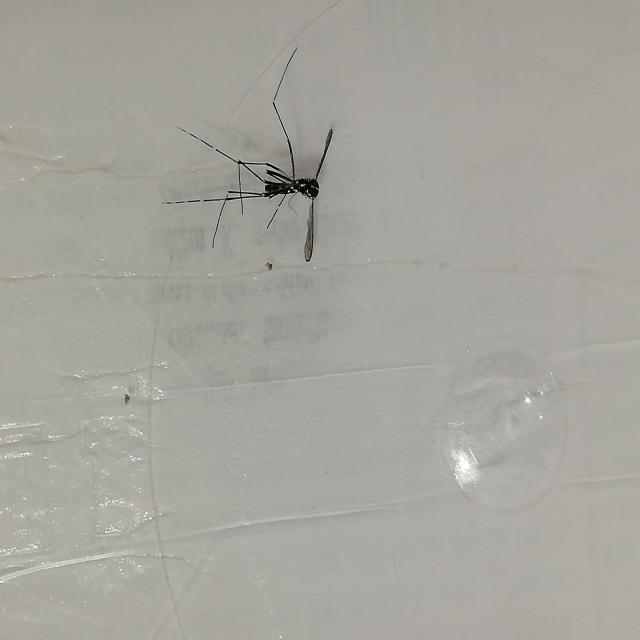albopictus: (164, 33, 346, 282)
